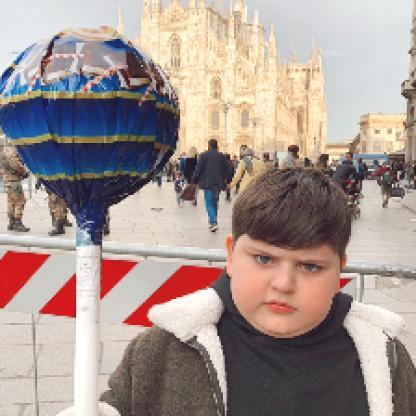child: (105, 166, 415, 415)
